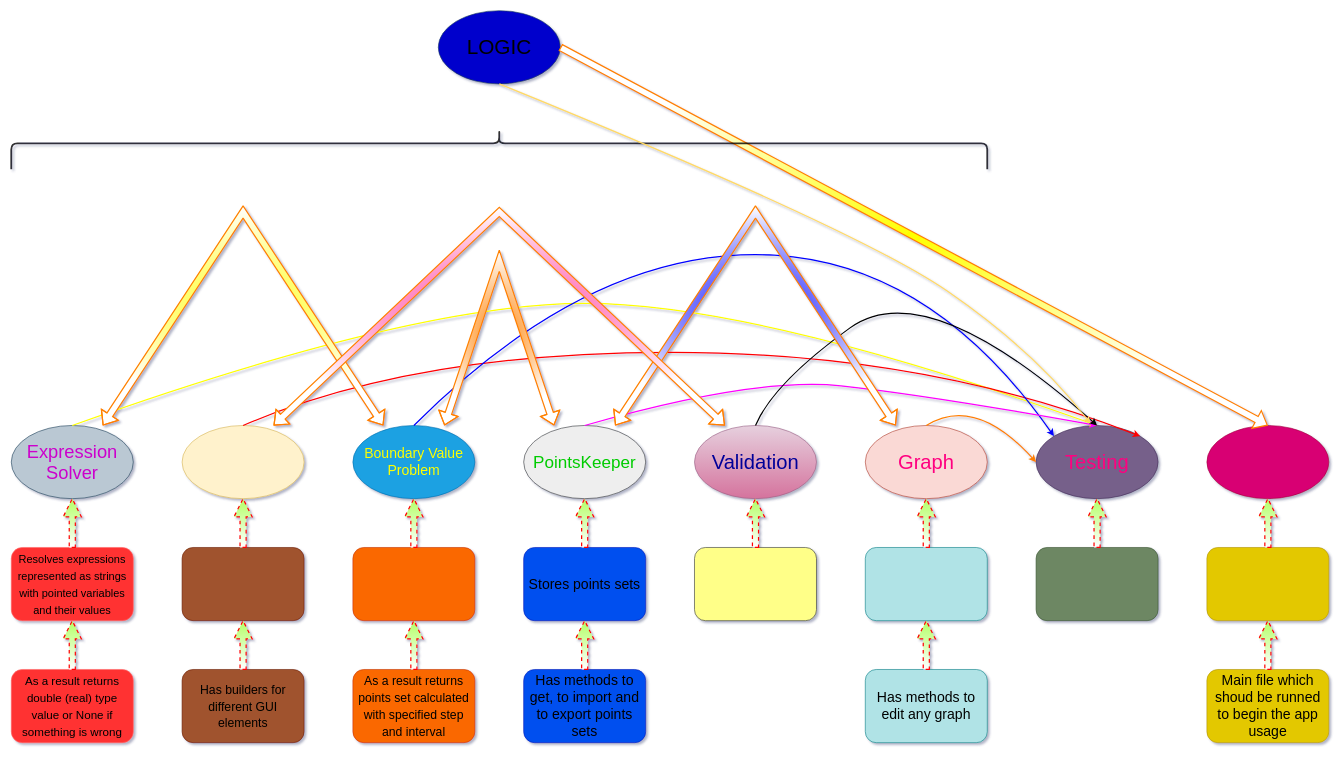
Some shapes in this 1343 by 757 pixel diagram are drawn without their labels. Here are the shapes that lost their labels. From the top down, the box of each, then its label:
(181, 425, 304, 499): GUI
(1206, 425, 1329, 499): MAIN
(181, 547, 304, 621): Makes it possible to reflect some proccesses on the screen
(352, 547, 475, 621): Has different strategies to resolve boundary value problem
(694, 547, 816, 621): Works with GUI and prevents wrong data in the processing
(865, 547, 987, 621): Has methods to form and show a graph
(1035, 547, 1158, 621): Tests all the methods and integrations
(1206, 547, 1329, 621): Picks up and represents the main program entity
